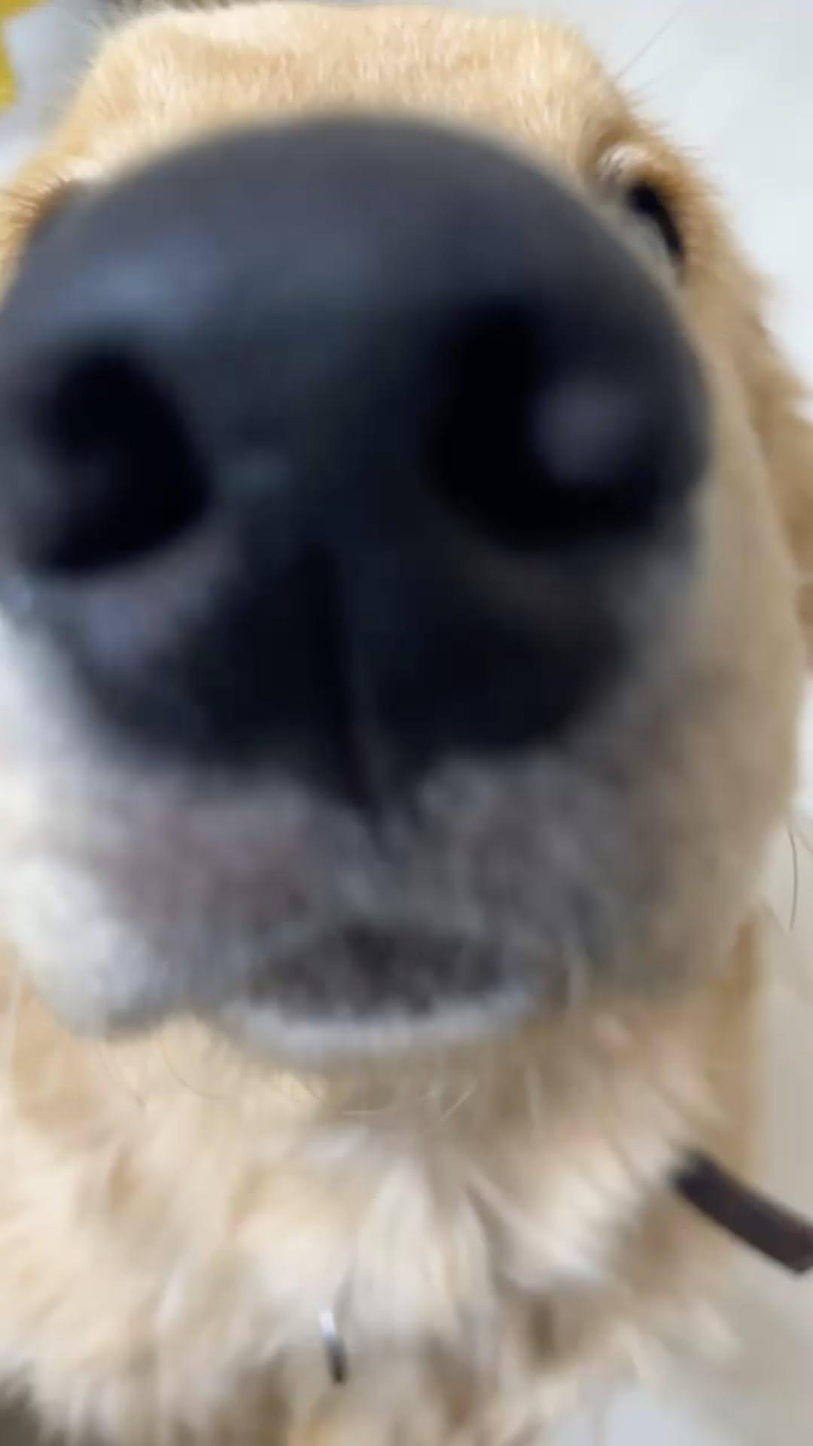adult_dog: (0, 1, 813, 1446)
